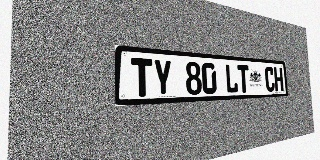0: (201, 62, 217, 94)
8: (185, 61, 202, 95)
C: (264, 66, 275, 92)
H: (274, 67, 284, 91)
L: (225, 64, 238, 93)
T: (131, 58, 153, 97), (237, 65, 250, 93)
Y: (153, 59, 173, 96)
